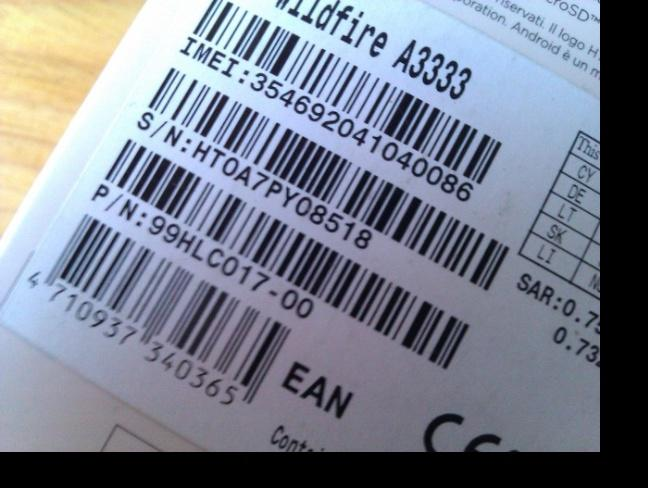Barcode: (25, 207, 292, 413)
